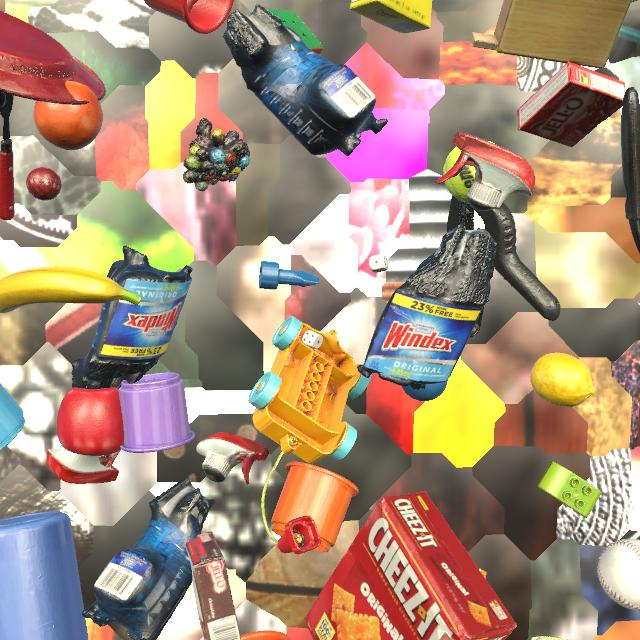ycb_002_master_chef_can: (595, 0, 637, 2)
ycb_003_cracker_box: (304, 491, 517, 640)
ycb_004_sugar_box: (350, 0, 432, 33)
ycb_008_pudding_box: (186, 531, 241, 640)
ycb_009_gelatin_box: (517, 61, 625, 147)
ycb_011_banana: (0, 266, 142, 313)
ycb_013_apple: (56, 387, 124, 456)
ycb_014_lemon: (530, 353, 596, 407)
ycb_017_orange: (33, 81, 103, 150)
